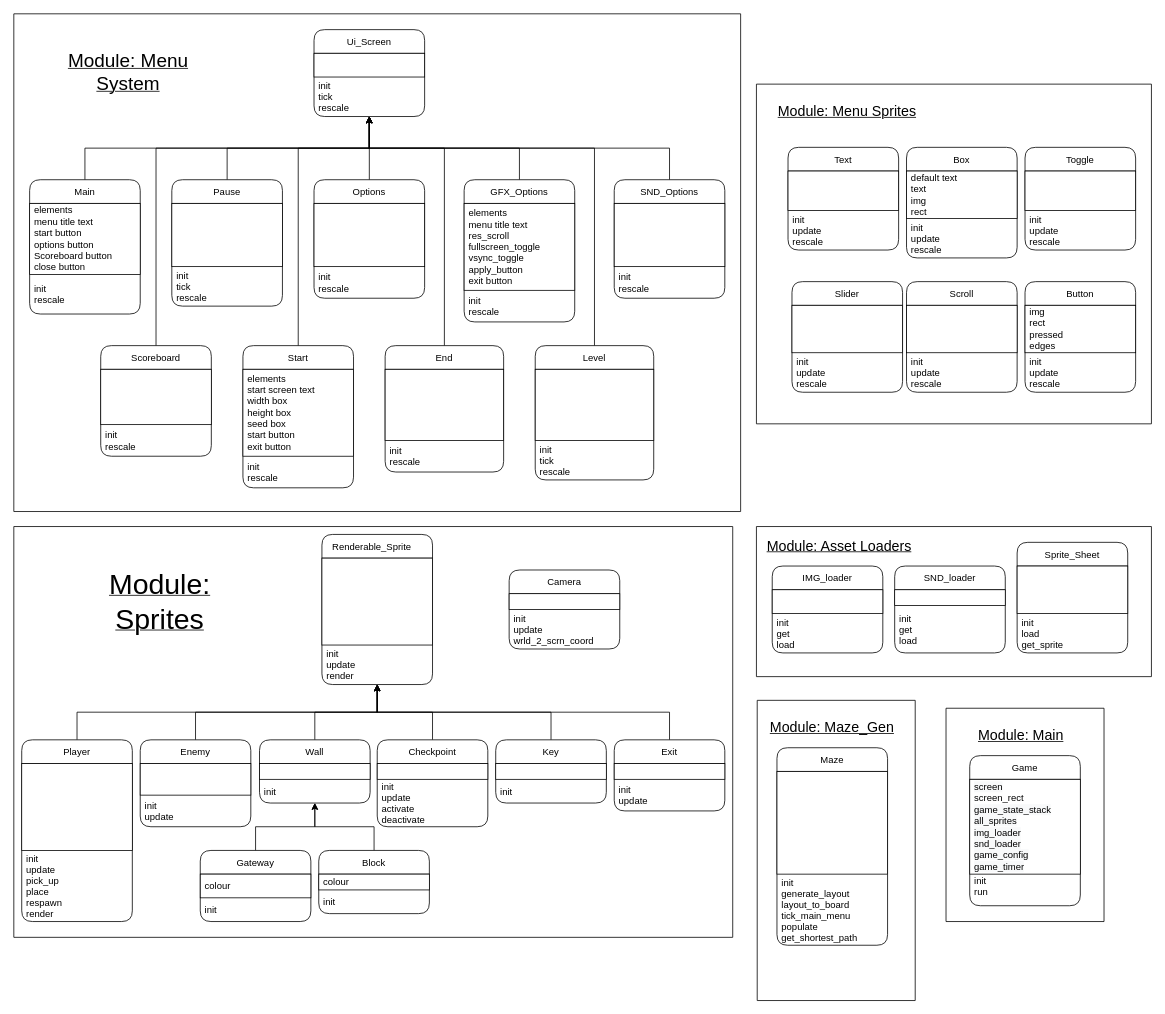
Image size: 1165x1014. Some labels were removed from this diagram. Here are the shapes that lost their labels. From the top down, the centre of each, then its label:
pixel 369 65: elements background
pixel 843 190: text img rect
pixel 1080 190: ticked img rect
pixel 226 235: elements menu title text resume button options button exit button
pixel 369 235: elements menu title text GFX button SND button exit button
pixel 669 235: elements menu title text music_slider game_slider exit button
pixel 847 329: val grab_offset img rect
pixel 961 329: options index img rect
pixel 155 397: elements scoreboard title text text rows exit button
pixel 444 404: elements End text time text name box add to scoreboard button exit button
pixel 594 404: blocks enemies checkpoints player maze
pixel 377 601: pos rot imgs frame_index frame_countdown frame_time rect
pixel 564 601: pos
pixel 827 601: assets sprite_sheets
pixel 949 597: assets
pixel 1072 589: name path img sprite_coords
pixel 195 779: colour target_path
pixel 432 771: active
pixel 76 806: colour health hurt_cooldown animation_state inventory keys last_checkpoint
pixel 832 822: msize layout board start end start_to_end maze_walls
